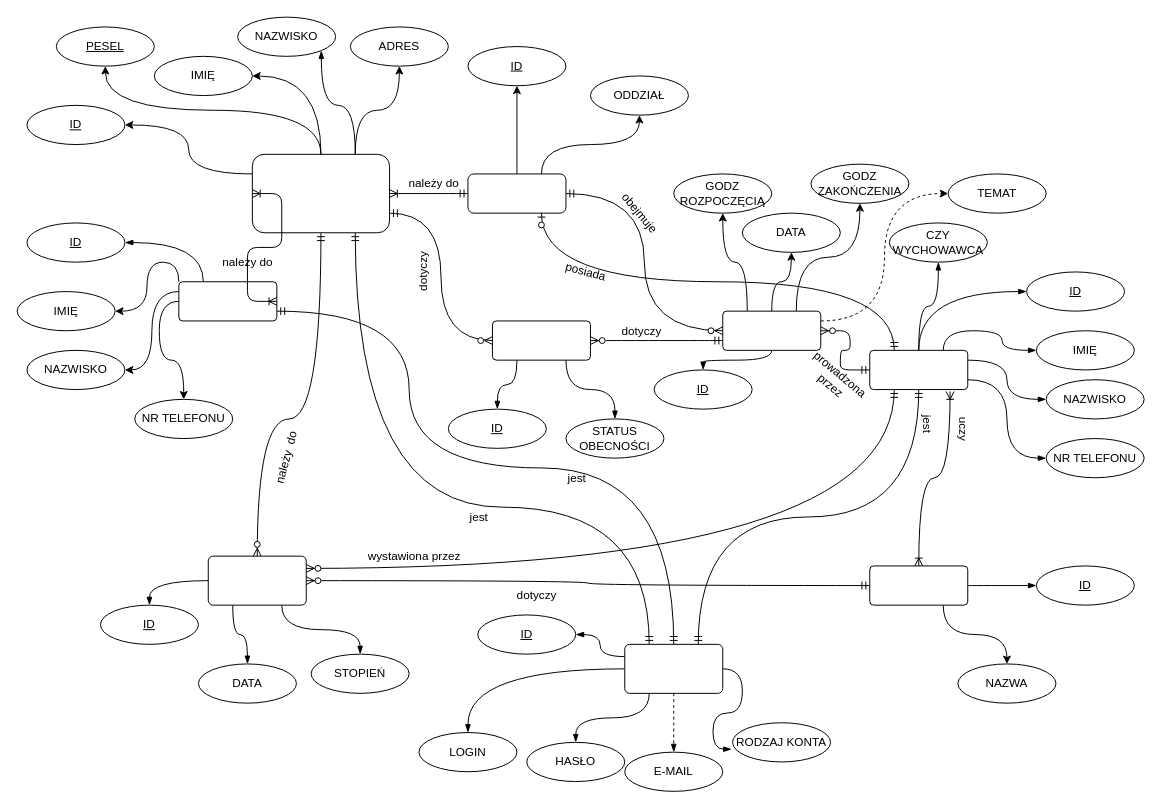
This 1161x809 diagram has some shape labels left out. The box of each missing label's shape, as (x1, y1, x2, y2) in pixels:
KLASA: (467, 173, 566, 213)
LEKCJA: (722, 310, 821, 350)
NAUCZYCIEL: (869, 349, 968, 390)
OBECNOŚĆ: (491, 320, 590, 360)
OCENA: (207, 555, 306, 605)
PRZEDMIOT: (869, 565, 968, 605)
RODZIC: (178, 281, 277, 321)
UCZEŃ: (251, 153, 390, 233)
UŻYTKOWNIK: (624, 643, 723, 693)
